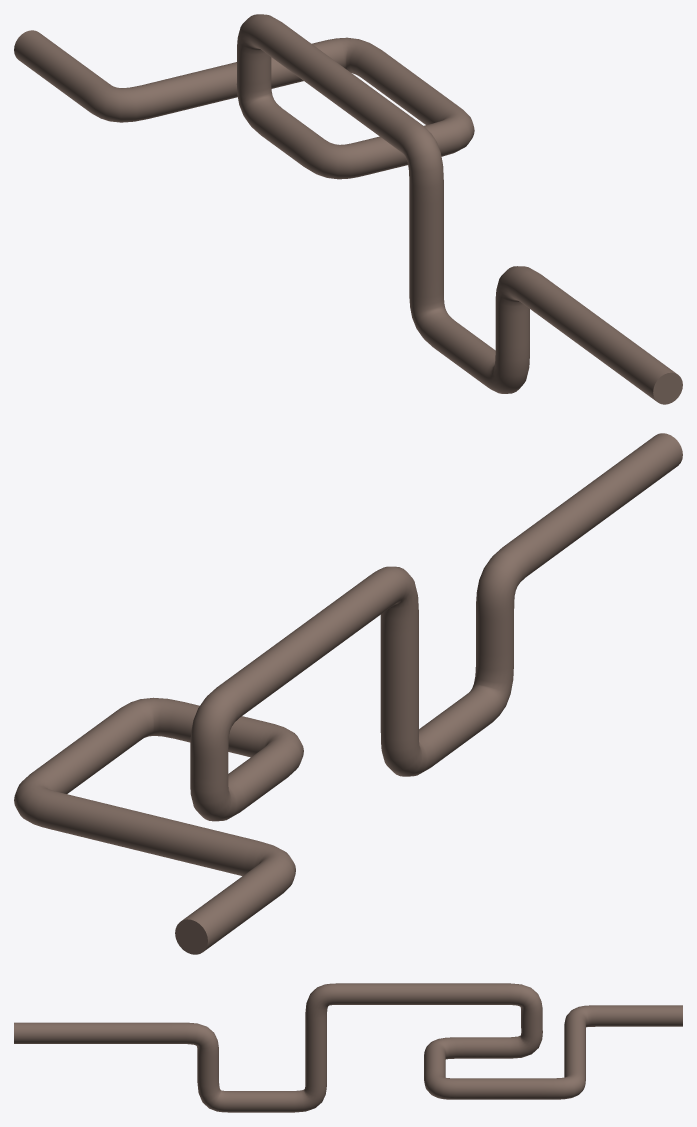
The model's file is CagnoA.FBX.
The picture shows the model from 3 angles, top to bottom: view 1: azimuth 30°, elevation 25°; view 2: azimuth 150°, elevation 25°; view 3: azimuth 270°, elevation 25°; orthographic projection. The views are drawn at different scales.
Visible parts, largest first — view 1: Loft003; view 2: Loft003; view 3: Loft003.
Part boxes in pixels (x1,y1,x2,y2): Loft003: (14,14,682,404); Loft003: (14,433,682,954); Loft003: (14,983,682,1112).
Size of the model in its own units: 180 by 130 by 620.
